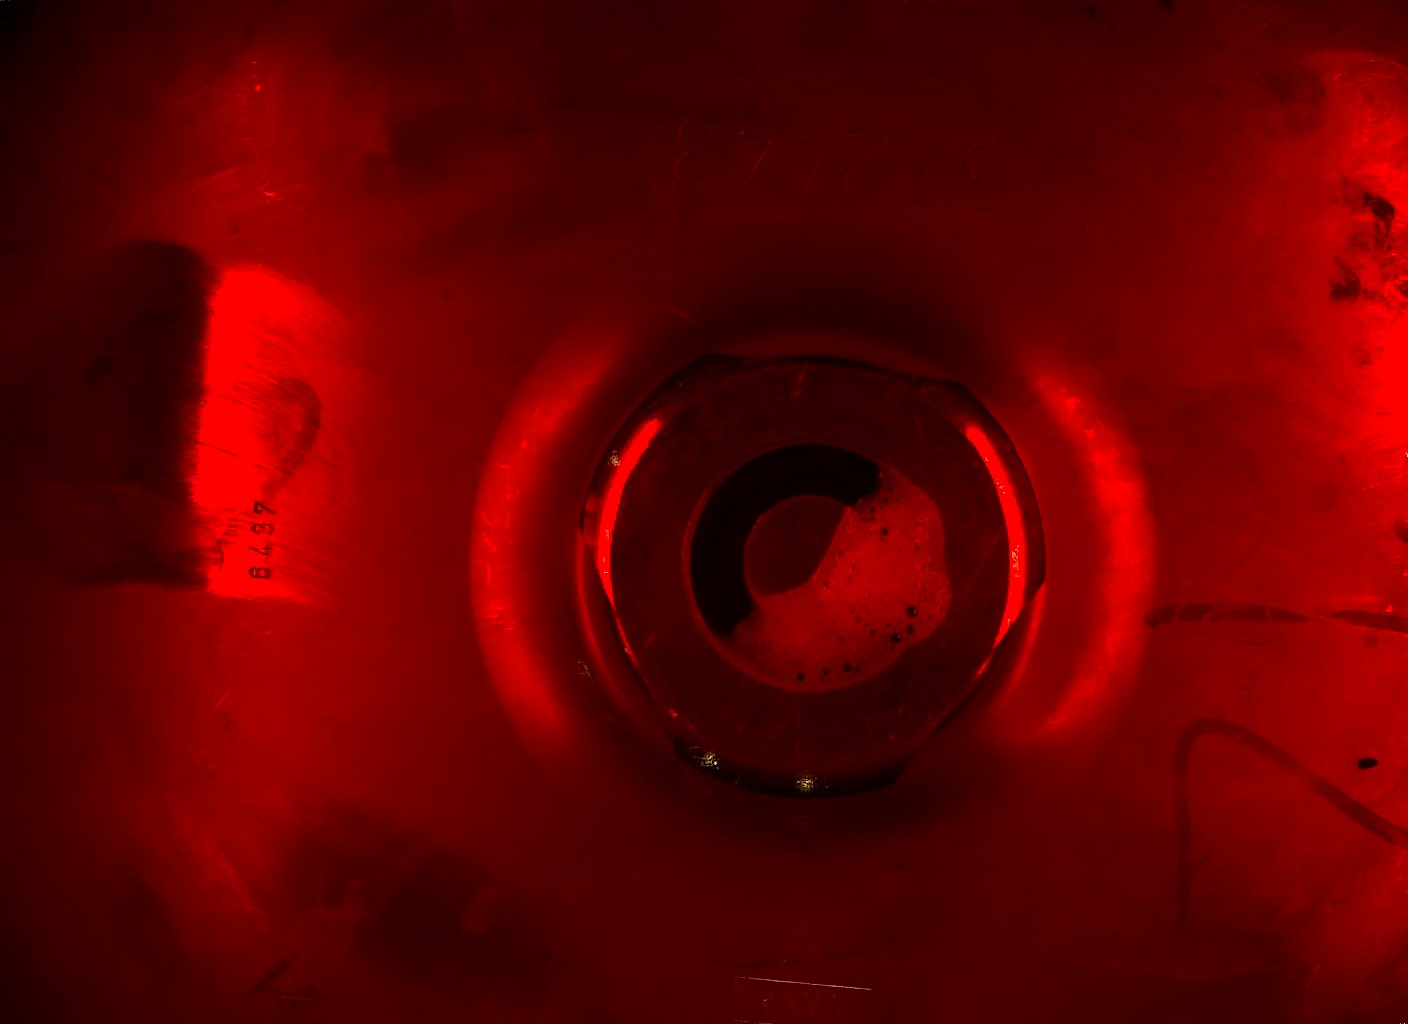pena: (739, 464, 976, 708)
